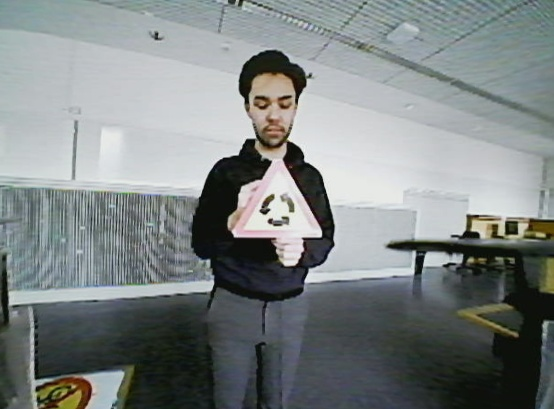roundabout_warning: (227, 155, 329, 243)
